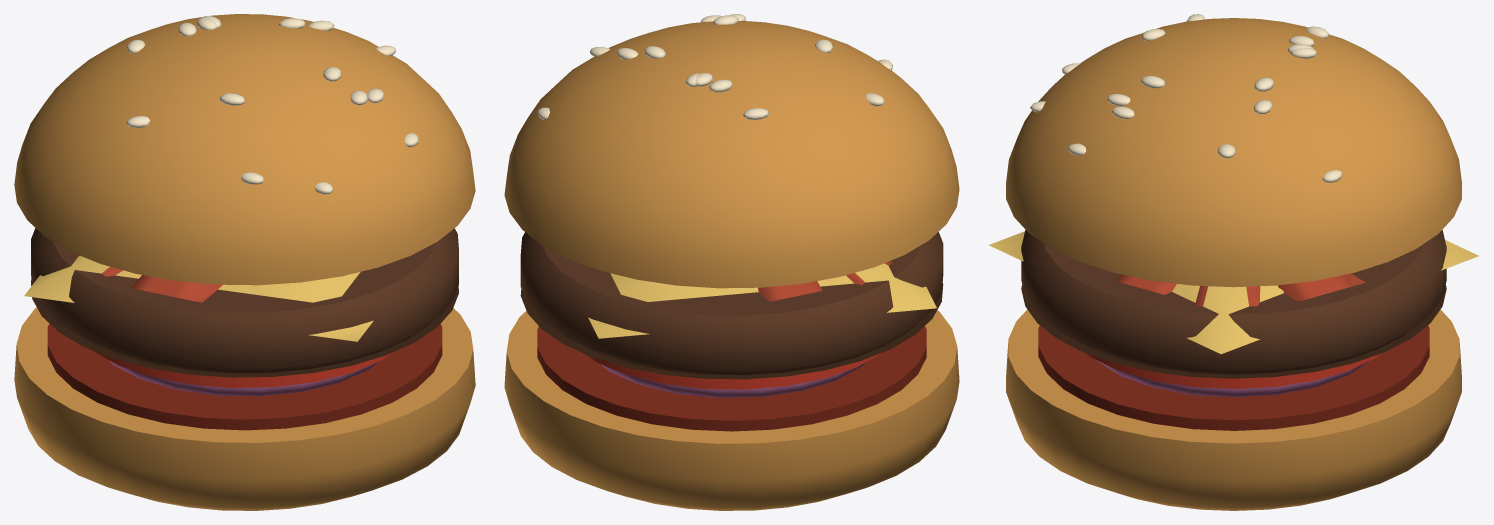
Rendered from burger-bacon.glb.
3 renders of one model, left to right at view 1: azimuth 30°, elevation 25°; view 2: azimuth 150°, elevation 25°; view 3: azimuth 270°, elevation 25°, orthographic.
Parts seen in each view (by area): view 1: burger-bacon; view 2: burger-bacon; view 3: burger-bacon.
Boxes of the visible parts, x1,y1,x2,y2 form: burger-bacon: (14,14,475,510); burger-bacon: (504,14,959,510); burger-bacon: (988,14,1478,510).
Bounding box in the file's own units: 0.1245 × 0.108 × 0.1245.
